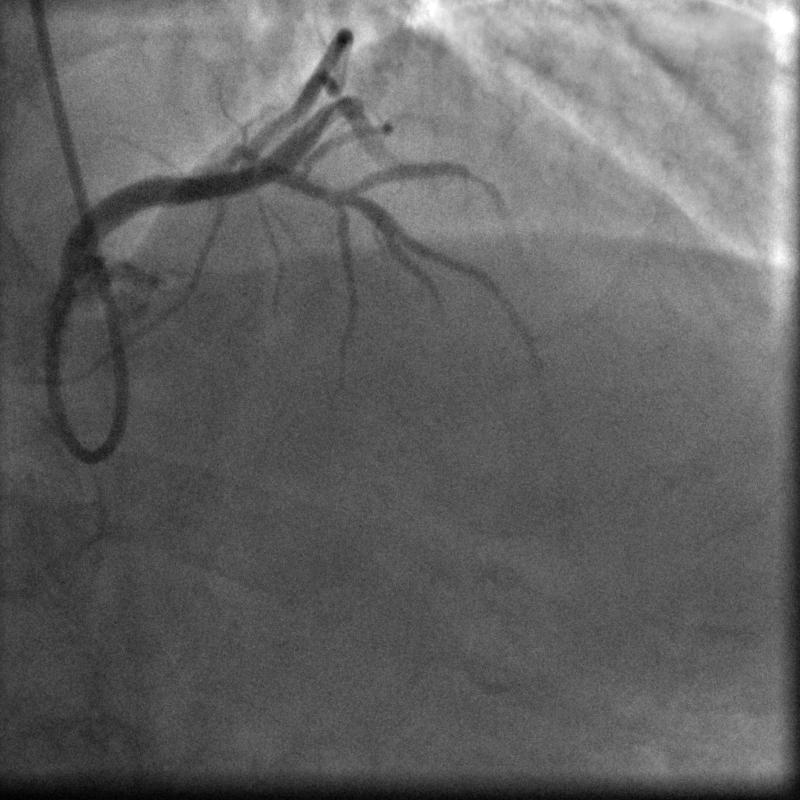Stenosis: (454, 155, 497, 196)
